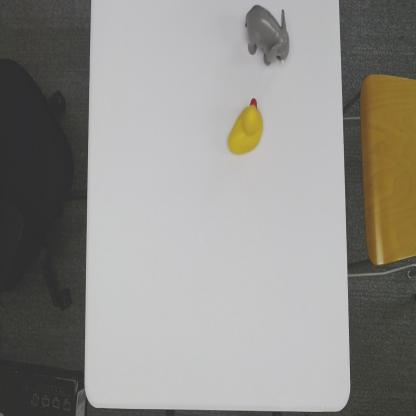Duck: (226, 95, 264, 158)
Elephant: (244, 1, 291, 67)
